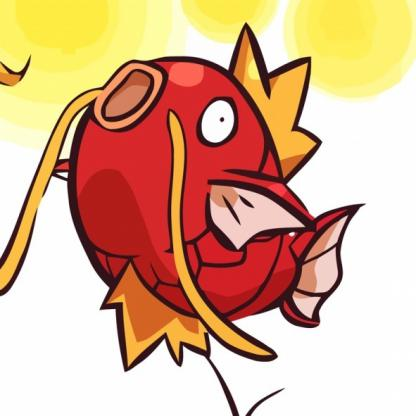Magikarp: (35, 21, 416, 416)
